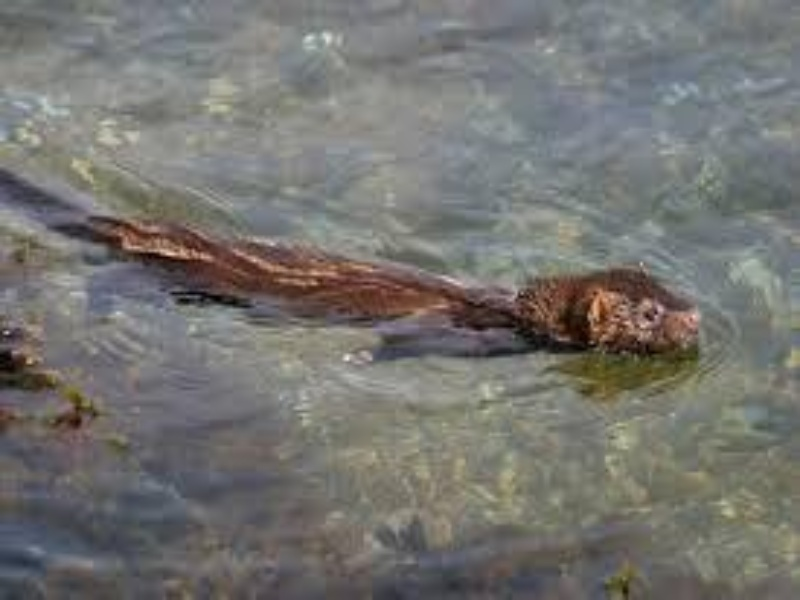minkish: (81, 203, 704, 366)
